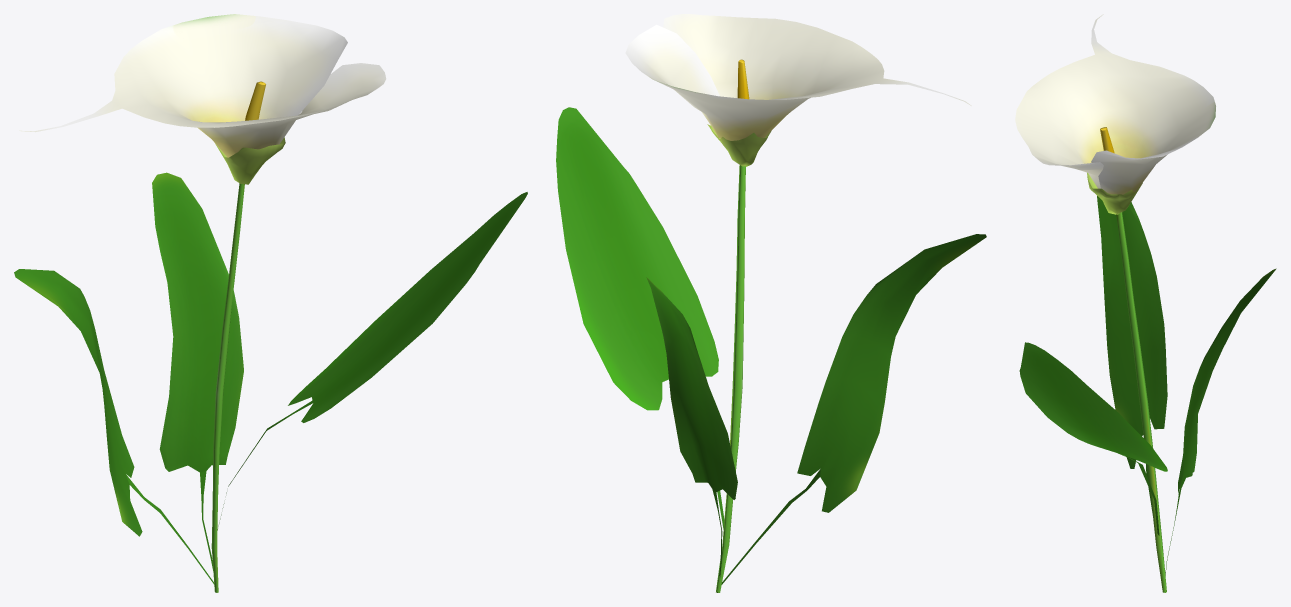
File: lily.glb
3 views of the same model, side by side, from view 1: azimuth 30°, elevation 25°; view 2: azimuth 150°, elevation 25°; view 3: azimuth 270°, elevation 25° (orthographic). The views are drawn at different scales.
Parts seen in each view (by area): view 1: Object_2; view 2: Object_2; view 3: Object_2.
Boxes of the visible parts, bbox=[...] form: Object_2: bbox=[14, 14, 527, 592]; Object_2: bbox=[556, 14, 986, 592]; Object_2: bbox=[1015, 14, 1276, 592].
Bounding box in the file's own units: 11.53 × 12.64 × 6.19.
Materials: 1 (1 with a texture image).
